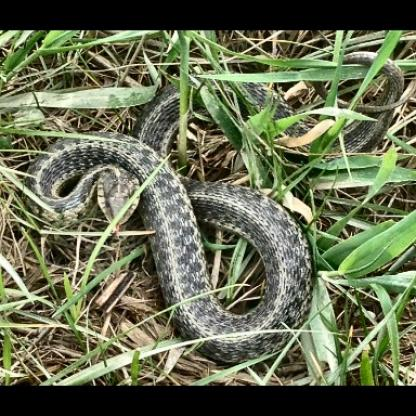Snake: (30, 81, 353, 368)
